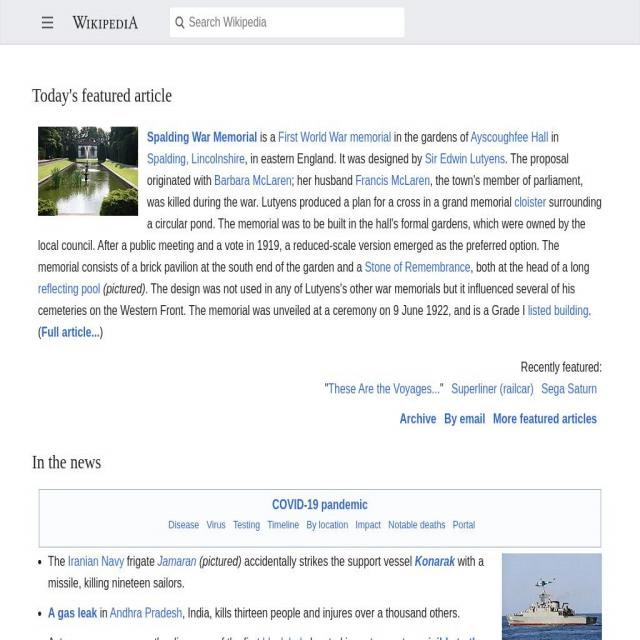options: (36, 8, 59, 40)
search: (164, 3, 415, 45)
